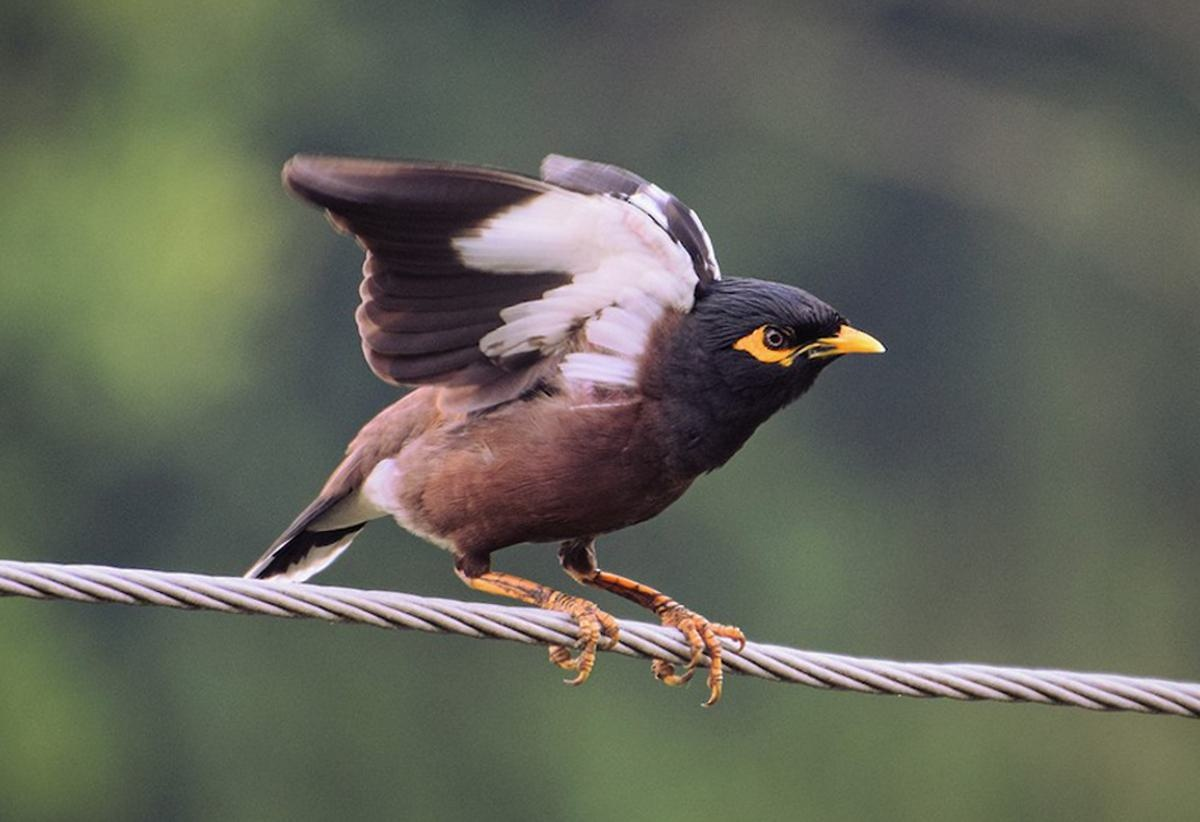myna: (219, 169, 929, 703)
